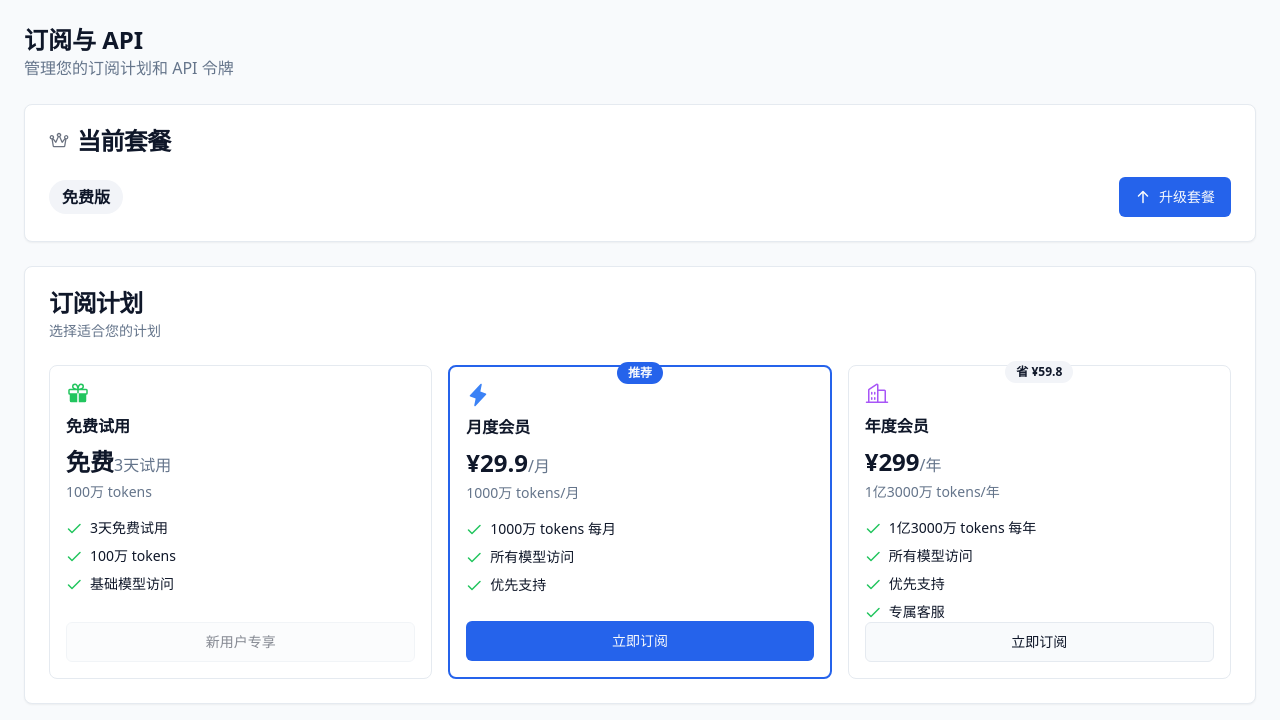
Scenario: Subscription page › still opens the payment dialog for authenticated users
Click the button "升级套餐". click: (1175, 197)
box: [1119,177,1231,217]
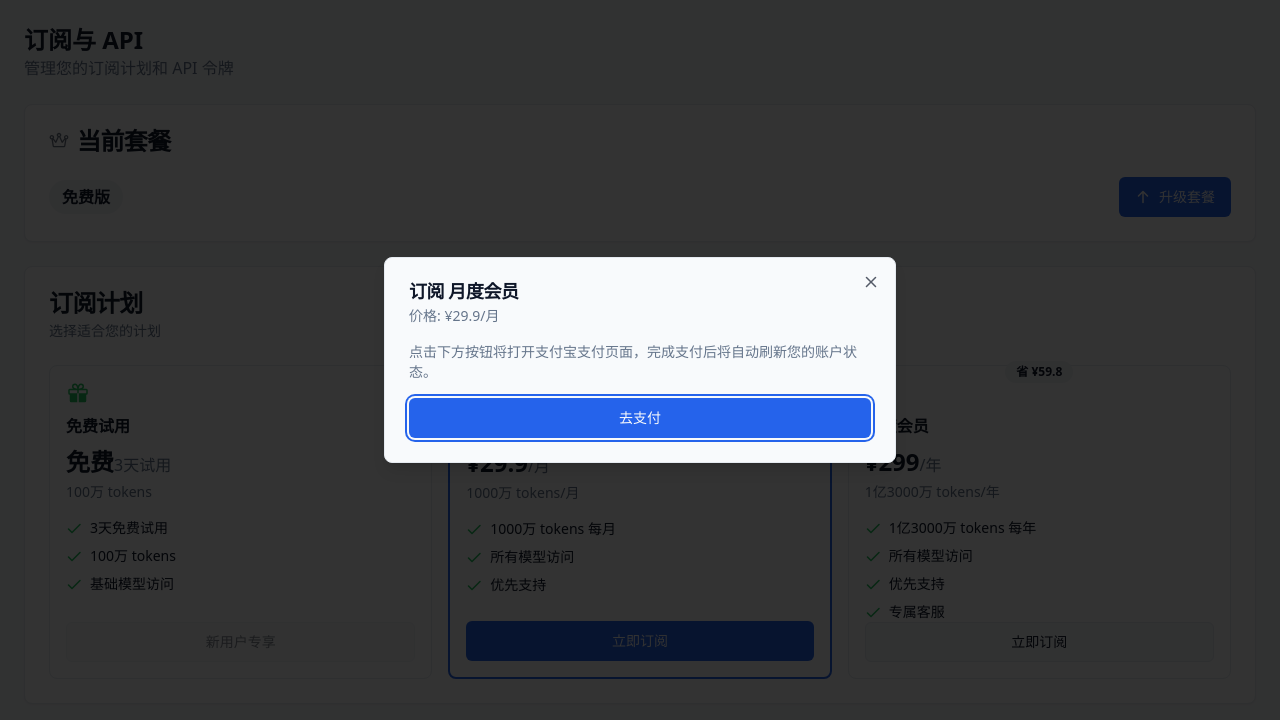
Expected: the button "去支付" is shown, [409,398,871,438]
